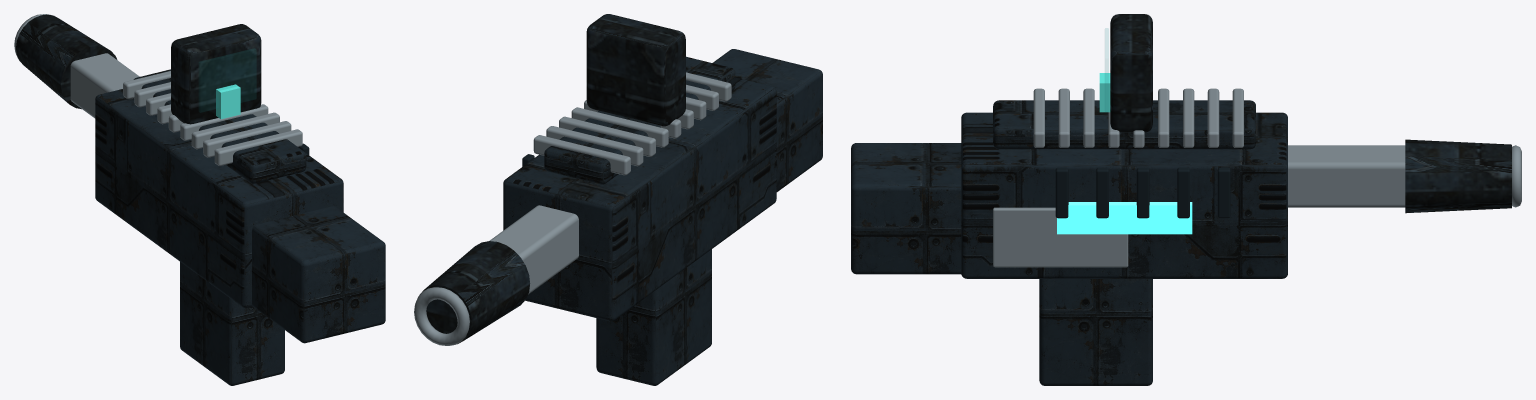
The picture shows the model from 3 angles, left to right: view 1: azimuth 30°, elevation 25°; view 2: azimuth 150°, elevation 25°; view 3: azimuth 270°, elevation 25°; orthographic projection. The views are drawn at different scales.
Visible parts, largest first — view 1: weapon-receiver, weapon-barrel, Reflex optic glass, weapon-sight; view 2: weapon-receiver, weapon-barrel; view 3: weapon-receiver, weapon-barrel, weapon-power, Heat vent.
Part boxes in pixels (bbox=[...]): weapon-receiver: bbox=[16, 14, 385, 385]; weapon-barrel: bbox=[14, 14, 302, 165]; Reflex optic glass: bbox=[199, 49, 255, 112]; weapon-sight: bbox=[216, 84, 240, 119]; weapon-receiver: bbox=[420, 14, 822, 385]; weapon-barrel: bbox=[414, 72, 731, 345]; weapon-receiver: bbox=[851, 14, 1511, 385]; weapon-barrel: bbox=[993, 88, 1521, 267]; weapon-power: bbox=[1057, 202, 1192, 234]; Heat vent: bbox=[1055, 167, 1230, 218].
Bounding box in the file's own units: 0.194 × 0.53 × 0.944.
6 materials, 1 textured.
